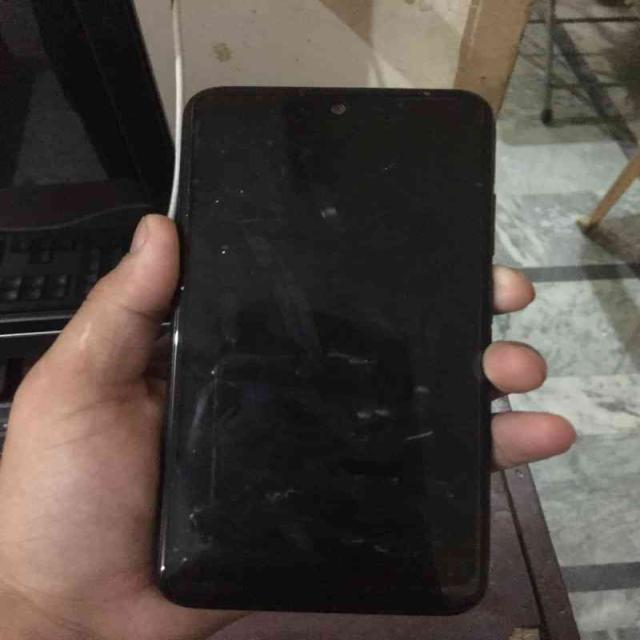mobile phone: (154, 83, 496, 616)
